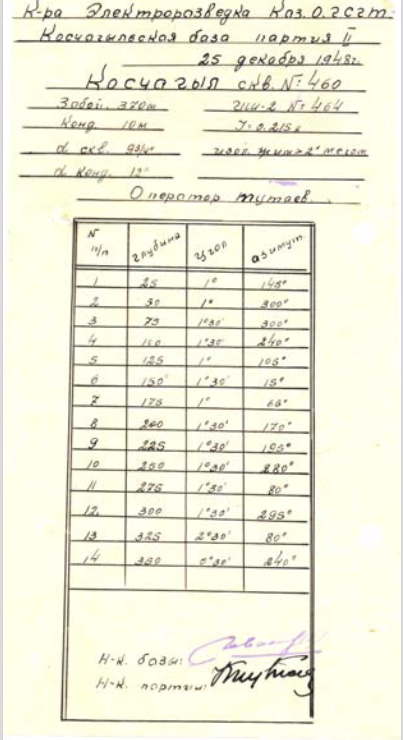Bordered: (71, 219, 314, 600)
